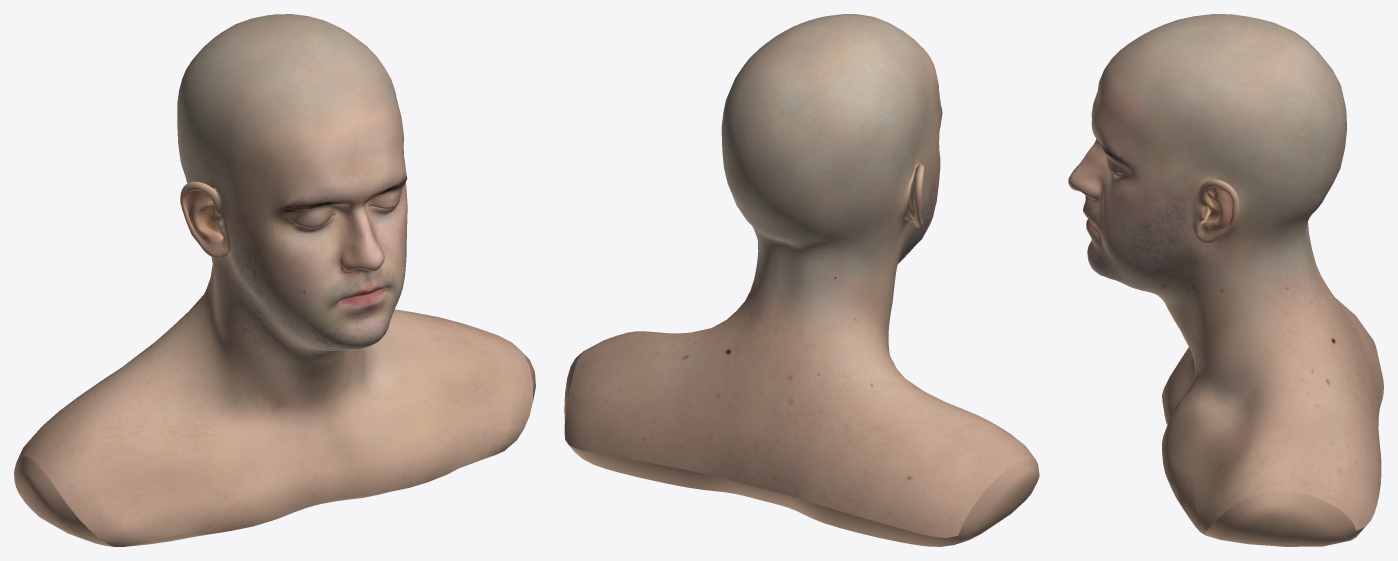
File: lee-perry-smith-head-scan.fbx
The picture shows the model from 3 angles, left to right: view 1: azimuth 30°, elevation 25°; view 2: azimuth 150°, elevation 25°; view 3: azimuth 270°, elevation 25°; orthographic projection. The views are drawn at different scales.
Parts seen in each view (by area): view 1: Infinite; view 2: Infinite; view 3: Infinite.
Part boxes in pixels (left/top/right/bottom): Infinite: left=14, top=14, right=535, bottom=546; Infinite: left=564, top=14, right=1039, bottom=546; Infinite: left=1068, top=14, right=1383, bottom=546.
Size of what is drawn, in the model's own units: 0.4533 by 0.4211 by 0.2746.
Materials: 1 (1 with a texture image).
